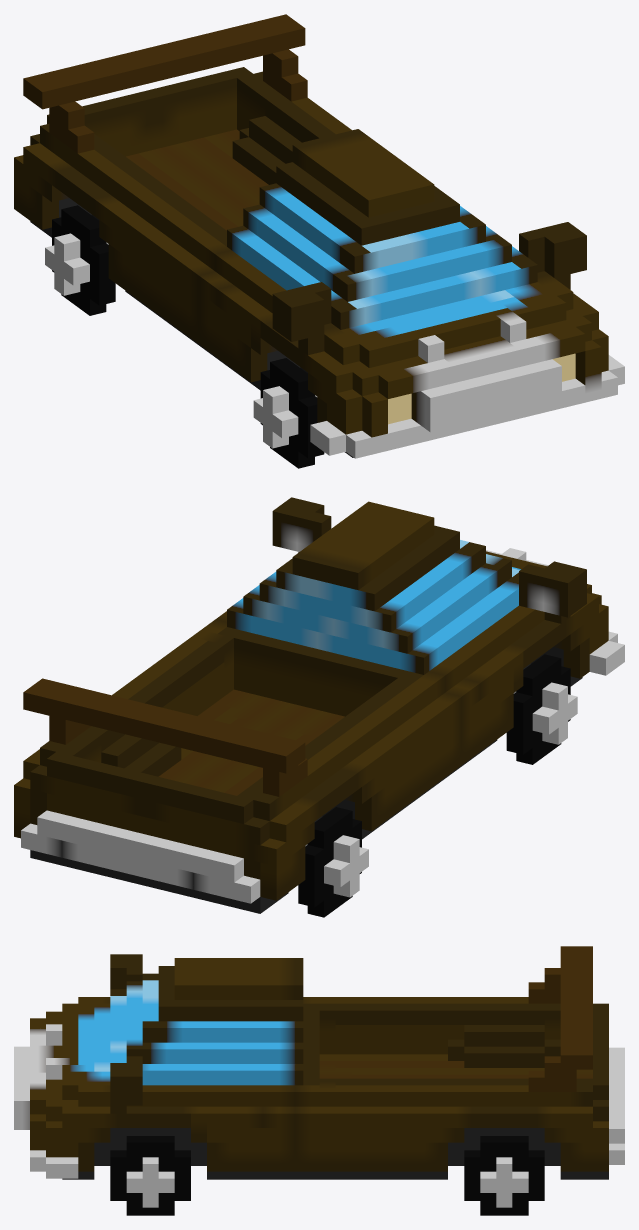
The model's file is SpaceTruckers-Camino.dae.
3 renders of one model, top to bottom at view 1: azimuth 30°, elevation 25°; view 2: azimuth 150°, elevation 25°; view 3: azimuth 270°, elevation 25°, orthographic. The views are drawn at different scales.
Parts seen in each view (by area): view 1: Matrix, Cylinder_2, Cylinder_3; view 2: Matrix, Cylinder_3, Cylinder_2; view 3: Matrix, Cylinder, Cylinder_1.
Boxes of the visible parts, x1,y1,x2,y2 form: Matrix: (14,14,624,458); Cylinder_2: (45,205,115,315); Cylinder_3: (253,358,324,468); Matrix: (14,497,624,913); Cylinder_3: (506,654,577,764); Cylinder_2: (298,807,368,917); Matrix: (14,946,624,1179); Cylinder: (110,1136,190,1215); Cylinder_1: (464,1136,544,1215).
Bounding box in the file's own units: 18 × 13 × 38.
